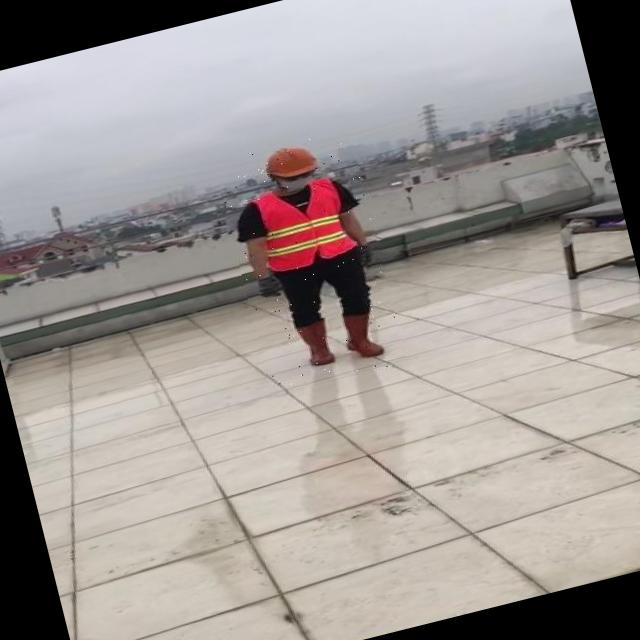hard_hat: (252, 138, 324, 188)
safety_vest: (248, 177, 362, 276)
vehicle: (214, 127, 406, 395)
work_boots: (338, 306, 388, 363), (292, 316, 341, 372)
